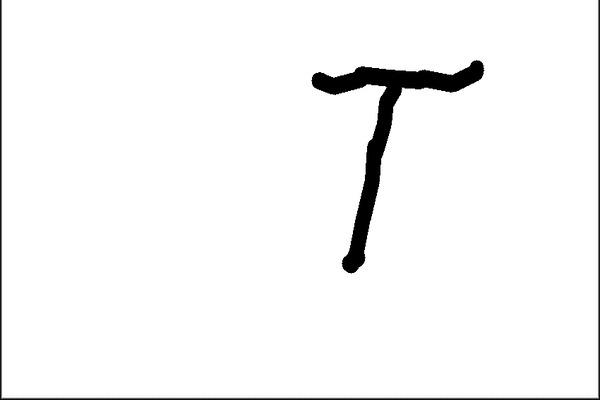T: (304, 58, 485, 276)
